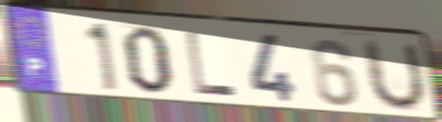0: (120, 24, 177, 97)
1: (83, 21, 121, 93)
4: (247, 31, 303, 105)
6: (308, 36, 359, 108)
L: (183, 29, 239, 99)
U: (363, 37, 429, 114)
